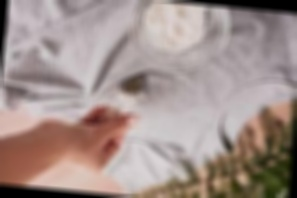wine: (106, 66, 181, 115)
